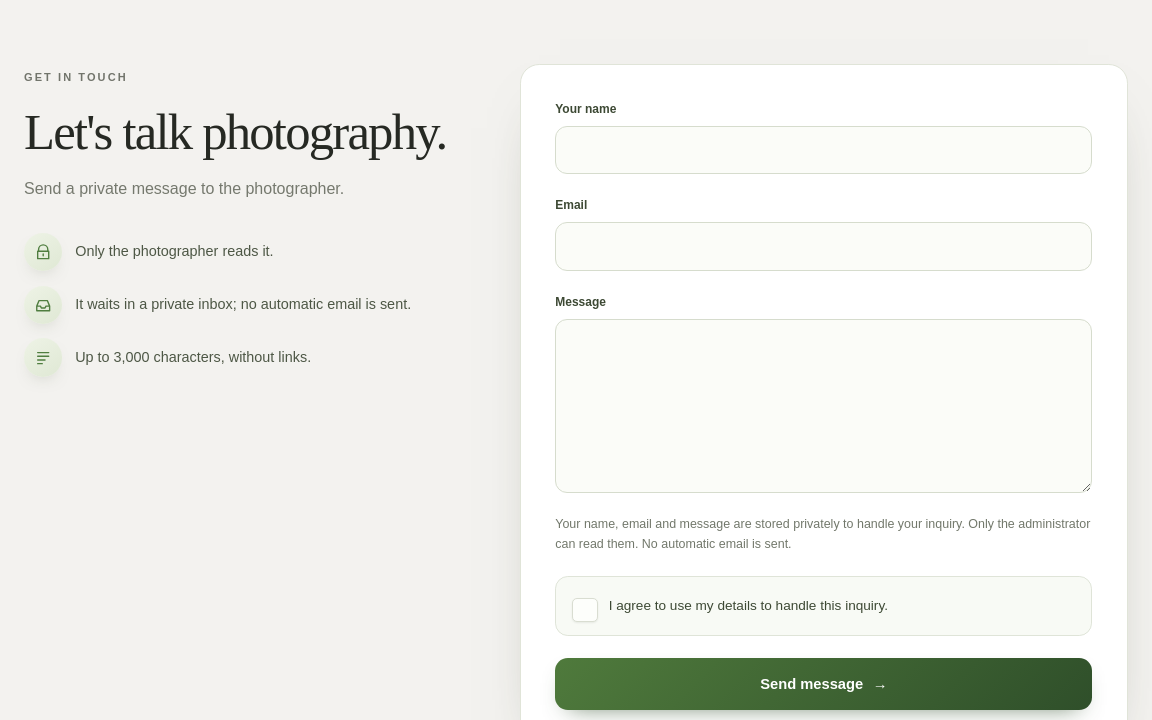
Scenario: ContactForm › sends the message with consent and thanks the visitor
The width and height of the screenshot is (1152, 720).
Type "Ana" into the field labelled "Your name" at (824, 150), box 555,126 -> 1092,174
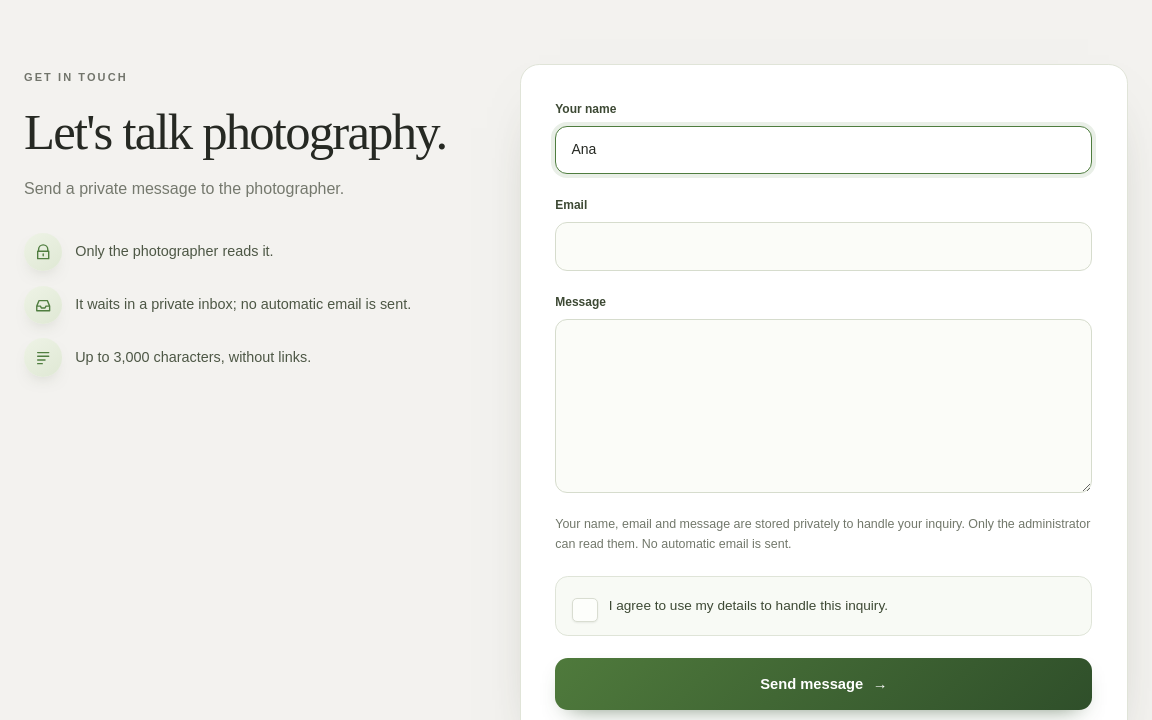
Type "ana@example.com" into the field labelled "Email" at (824, 246), box 555,222 -> 1092,271
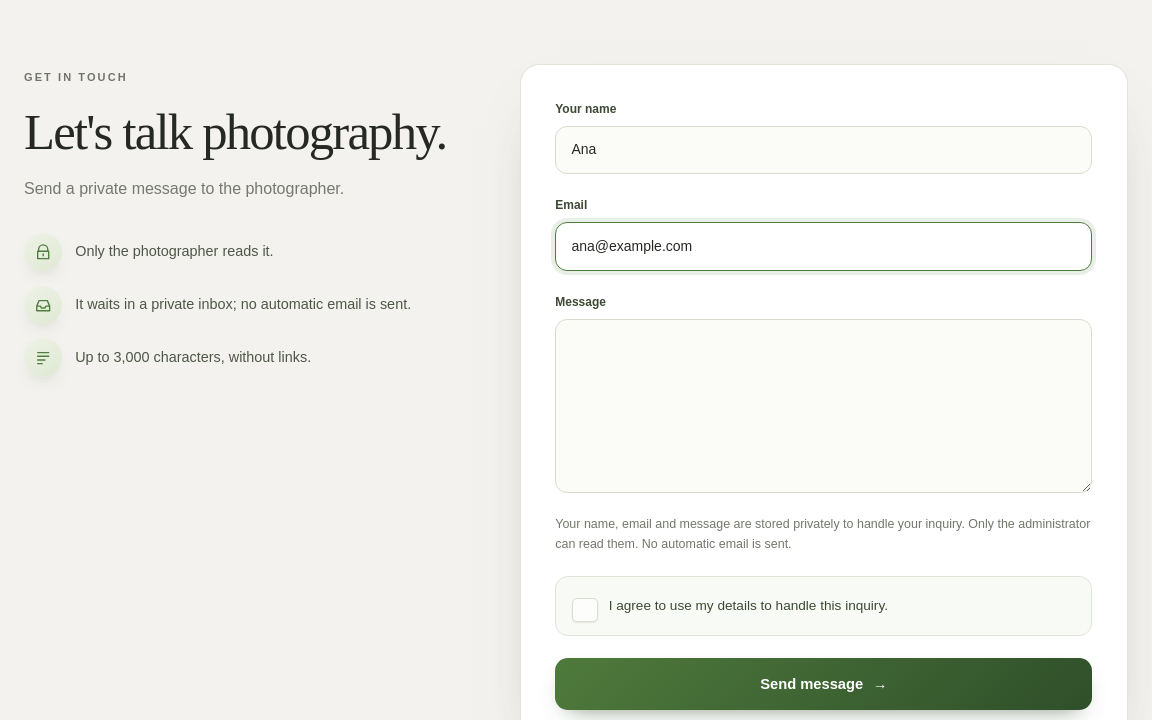
Type "I would like a print." into the text box labelled "Message" at (824, 406), box 555,319 -> 1092,493
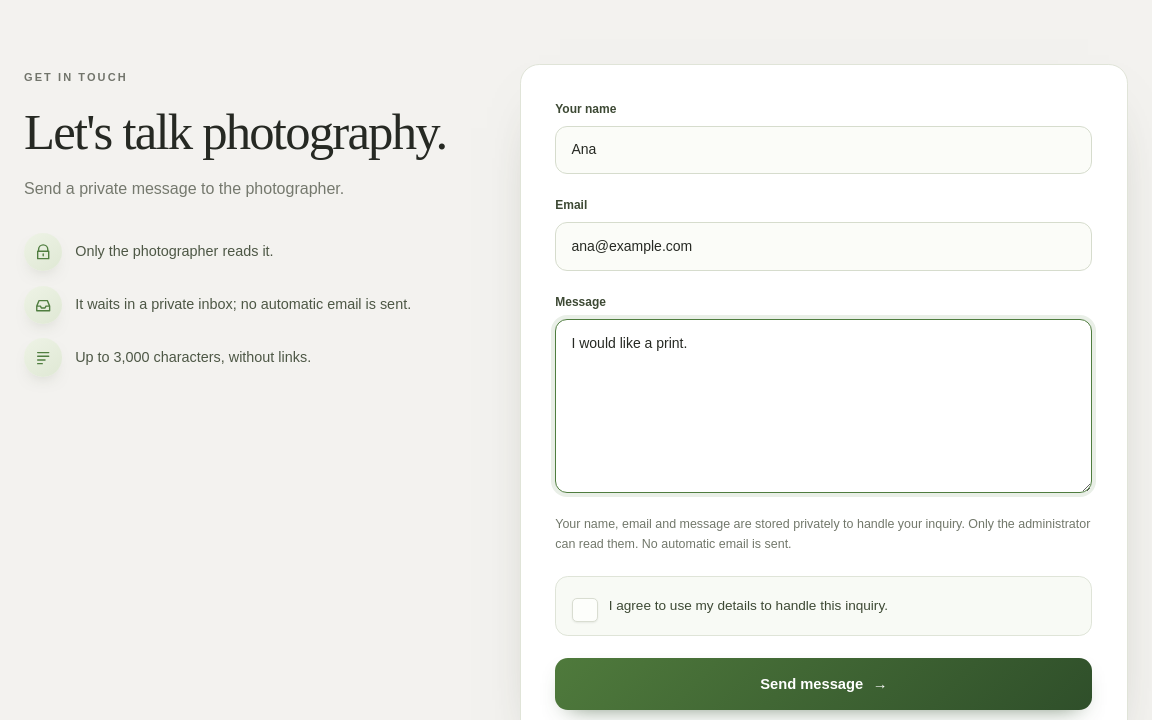
Click the checkbox labelled "I agree to use my details to handle this inquiry." at (585, 610), box 572,598 -> 598,622
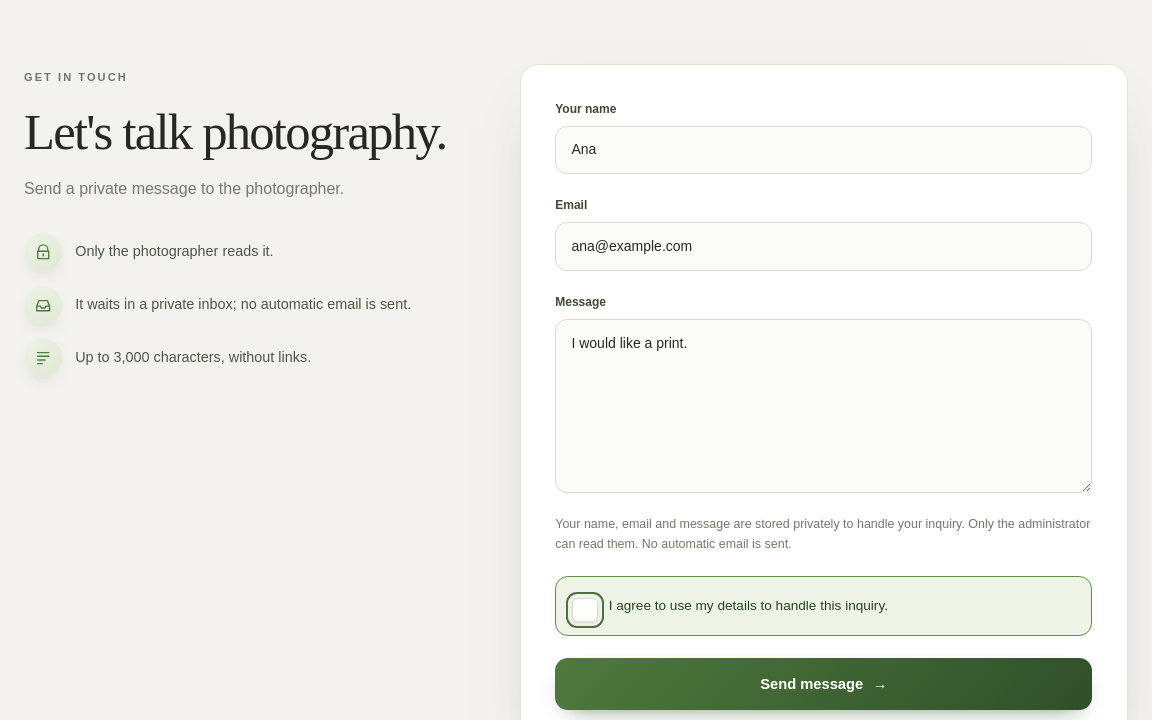
Click the button "Send message →" at (824, 684), box 555,658 -> 1092,710
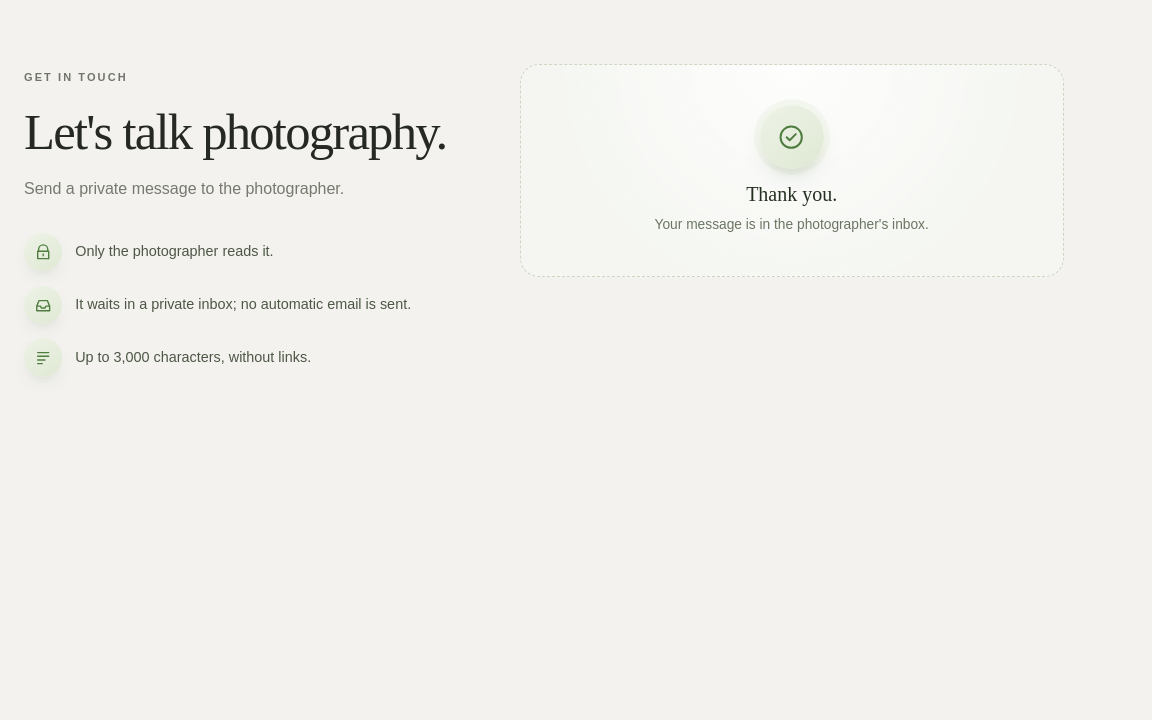
Now the message shows "inbox", box 655,217 -> 929,232
